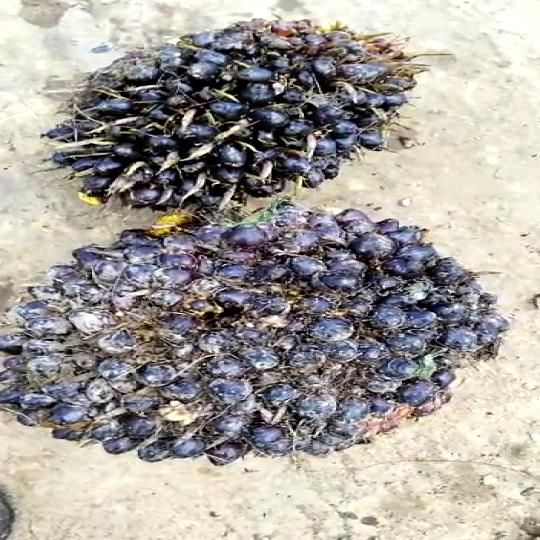mentah: (3, 203, 510, 478), (32, 12, 469, 210)
